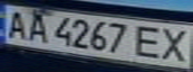2: (69, 16, 93, 51)
4: (48, 15, 75, 47)
6: (87, 18, 112, 53)
7: (106, 20, 133, 55)
A: (0, 7, 30, 39), (21, 11, 51, 43)
E: (130, 22, 169, 60)
X: (157, 25, 193, 63)
